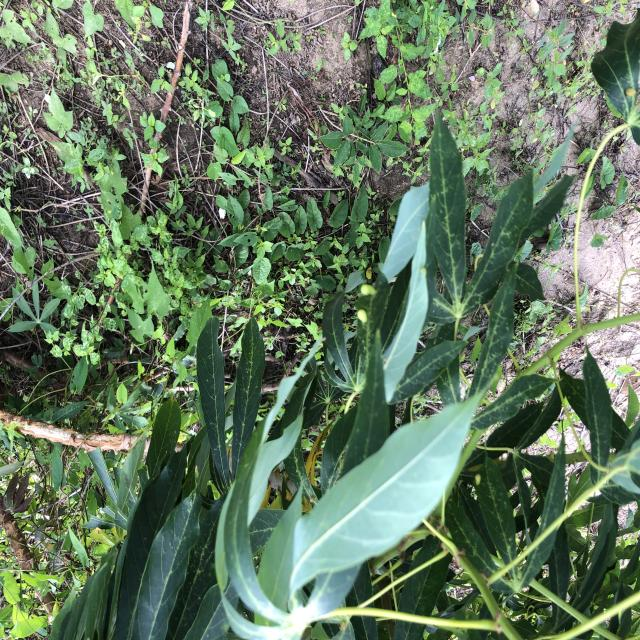Maleza: (24, 28, 282, 304)
Mosca: (359, 277, 382, 307), (347, 302, 378, 323)
